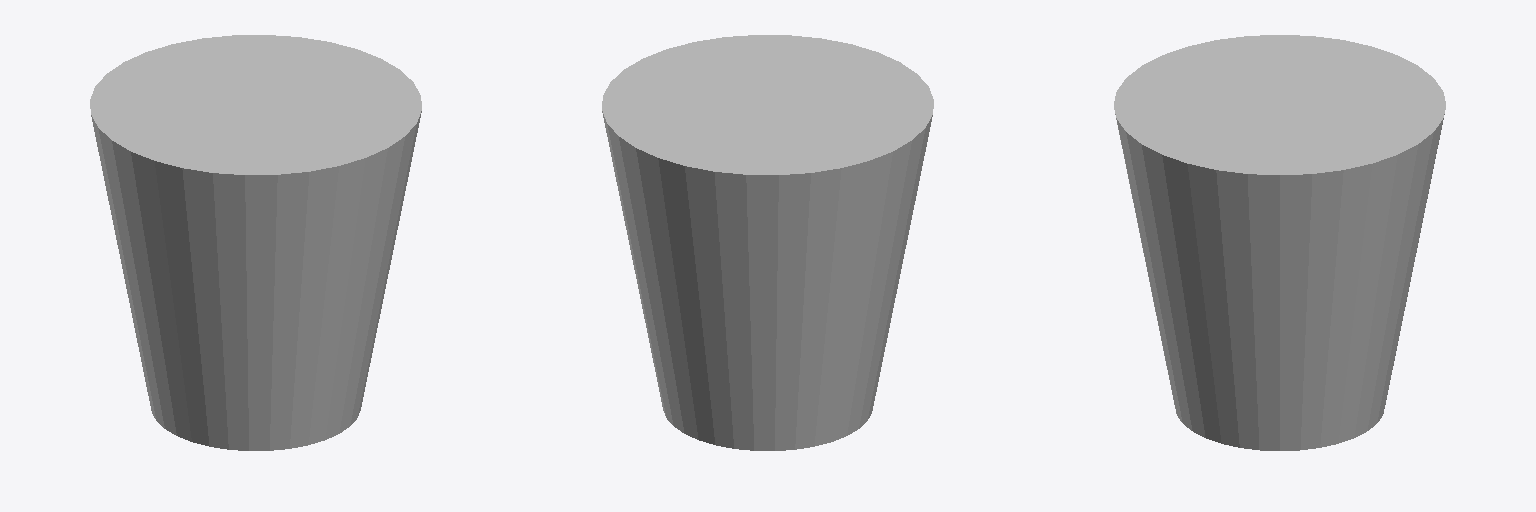
File: MetalContainer_Cylinder.009.obj
3 renders of one model, left to right at view 1: azimuth 30°, elevation 25°; view 2: azimuth 150°, elevation 25°; view 3: azimuth 270°, elevation 25°, orthographic.
Parts seen in each view (by area): view 1: MetalContainer_Cylinder.009; view 2: MetalContainer_Cylinder.009; view 3: MetalContainer_Cylinder.009.
Boxes of the visible parts, x1=… form: MetalContainer_Cylinder.009: x1=90, y1=35, x2=421, y2=450; MetalContainer_Cylinder.009: x1=602, y1=35, x2=933, y2=450; MetalContainer_Cylinder.009: x1=1114, y1=35, x2=1445, y2=450.
Bounding box in the file's own units: 0.6 × 0.6 × 0.6.